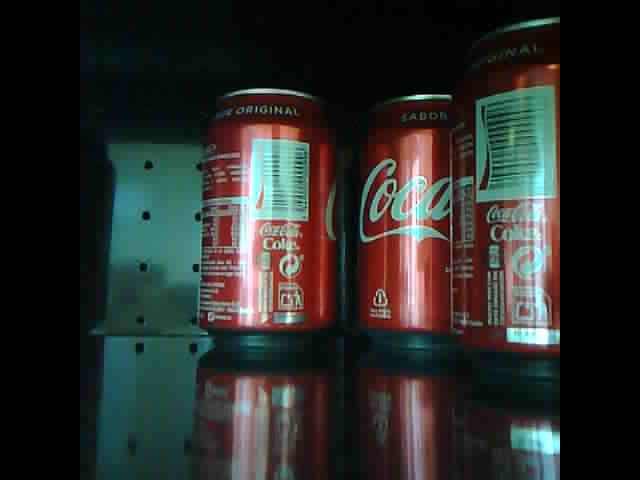coca cola: (451, 14, 560, 362), (195, 87, 338, 350), (355, 90, 451, 350)
